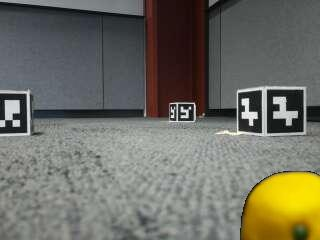lemon: (243, 170, 320, 238)
